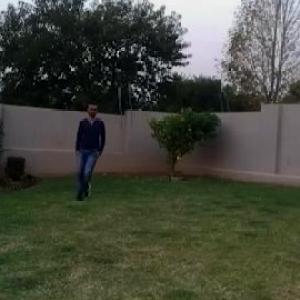follow: (71, 96, 106, 205)
